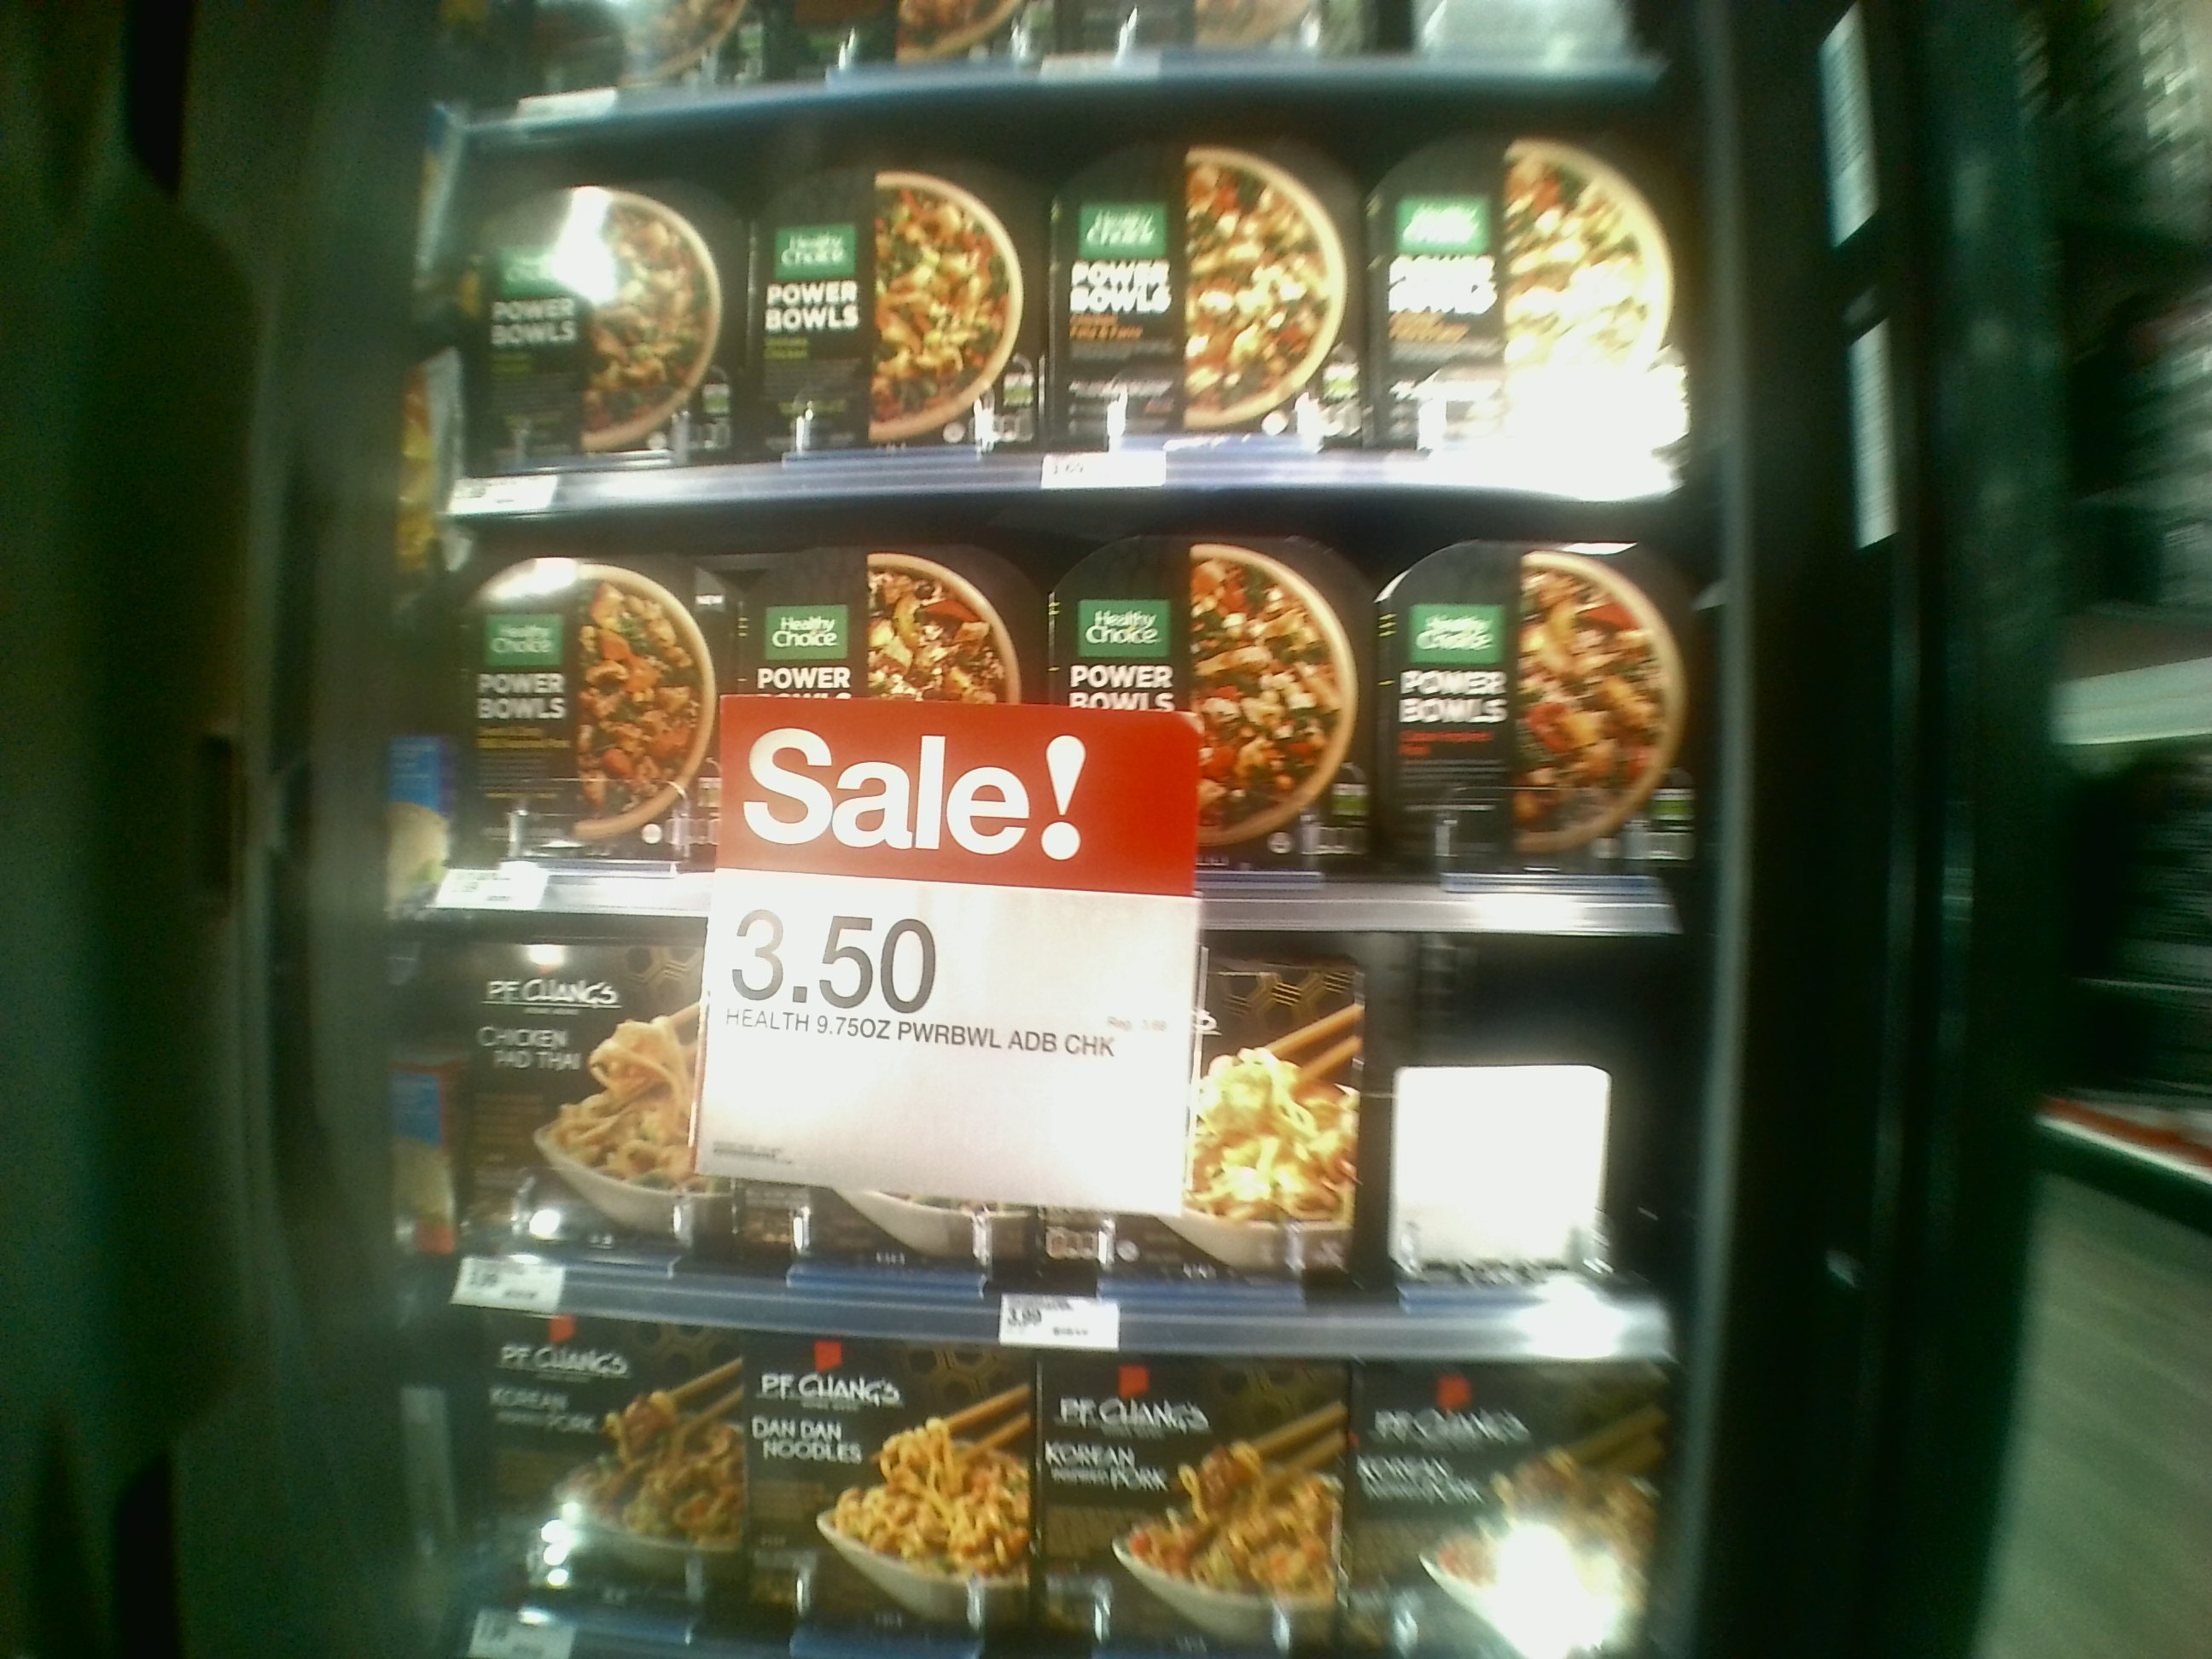shelf: (446, 488, 1693, 927)
